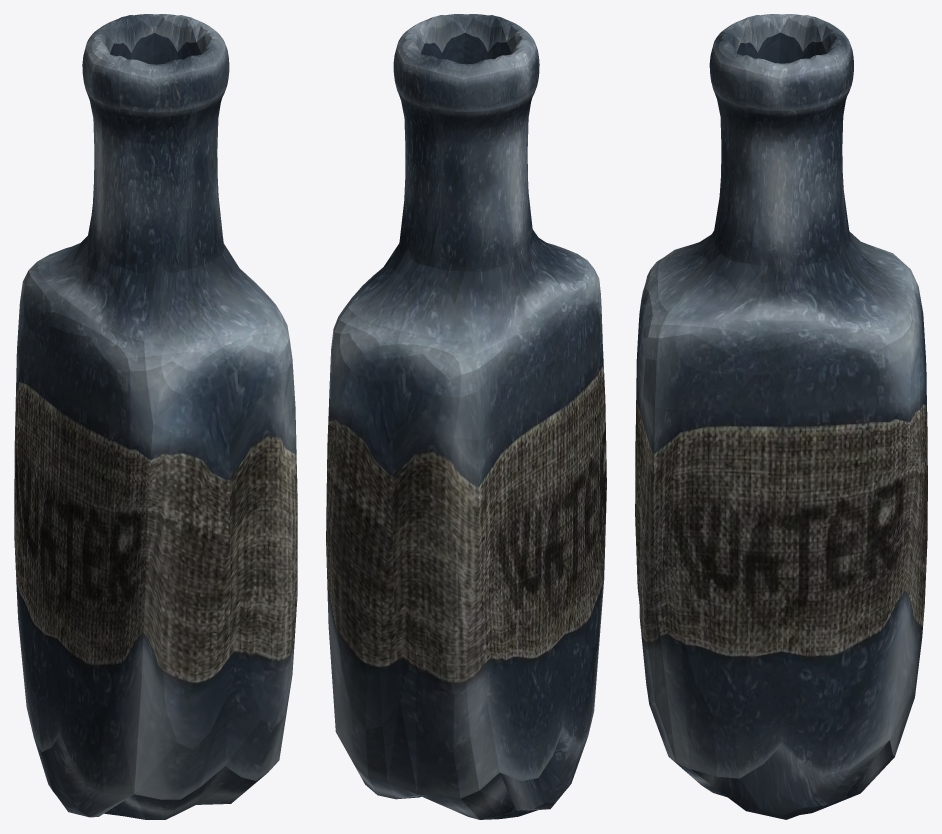
File: ITFO_ALCH_NEW.glb
The picture shows the model from 3 angles, left to right: view 1: azimuth 30°, elevation 25°; view 2: azimuth 150°, elevation 25°; view 3: azimuth 270°, elevation 25°; orthographic projection.
Visible parts, largest first — view 1: ITFO_ALCH_NEW; view 2: ITFO_ALCH_NEW; view 3: ITFO_ALCH_NEW.
Part boxes in pixels (x1,y1,x2,y2): ITFO_ALCH_NEW: (14, 14, 297, 819); ITFO_ALCH_NEW: (326, 14, 606, 819); ITFO_ALCH_NEW: (635, 14, 927, 819).
Size of the model in its own units: 0.0827 by 0.3027 by 0.1076.
Materials: 1 (1 with a texture image).
